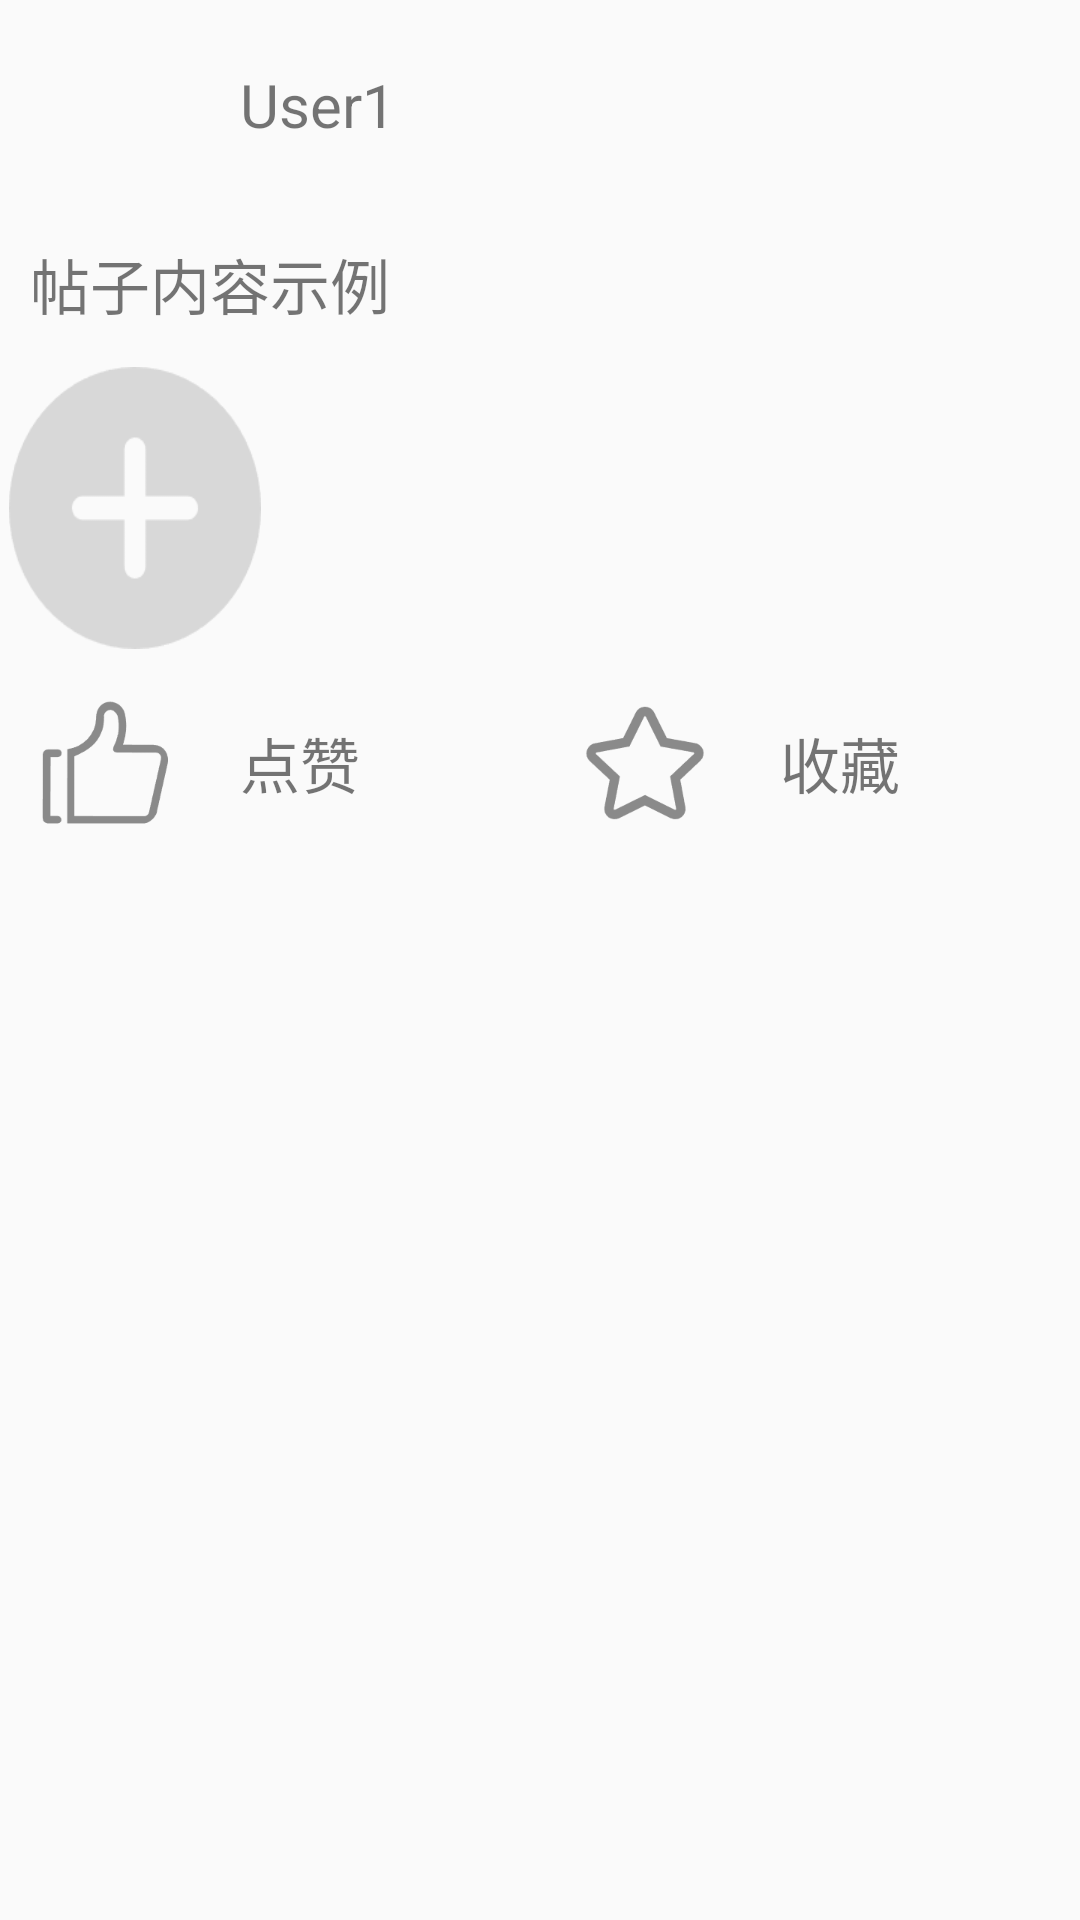

Icons on this 1080 × 1920 Android screen, each with the point to tap as (x=x, y=y):
choose picture: (x=135, y=508)
